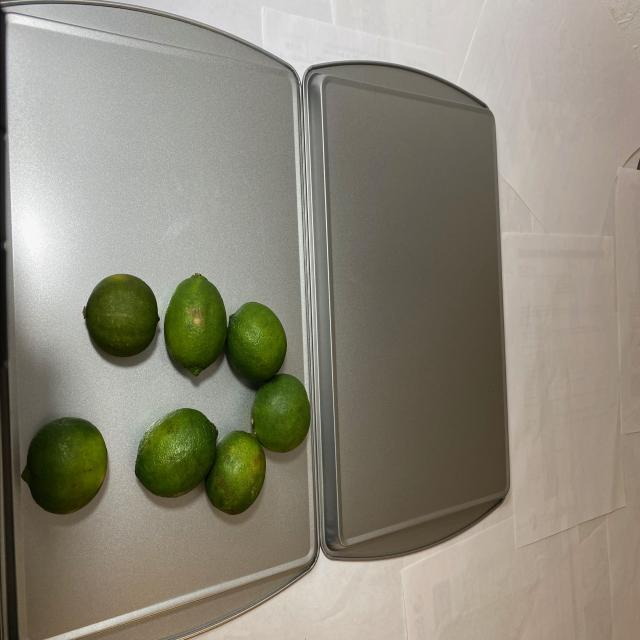lemon: (18, 283, 306, 525)
